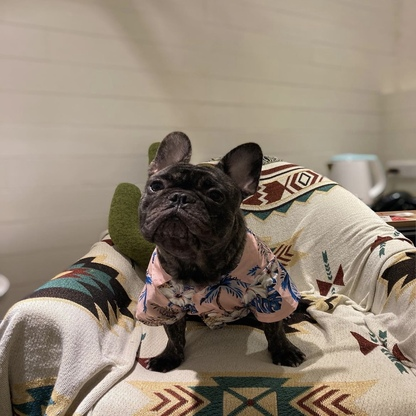bulldog: (136, 129, 310, 376)
